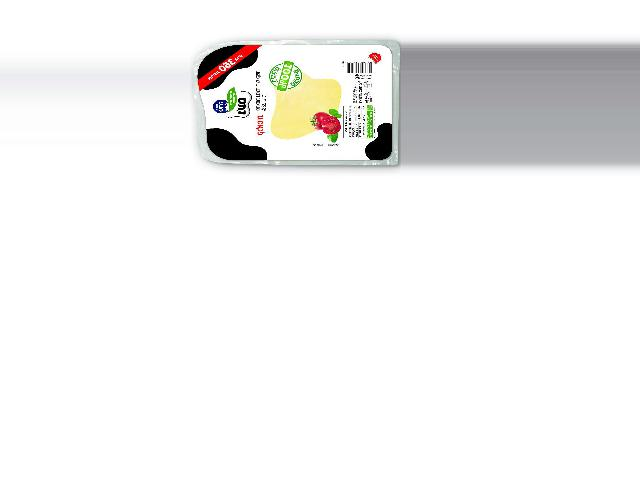cheese: (190, 39, 399, 165)
